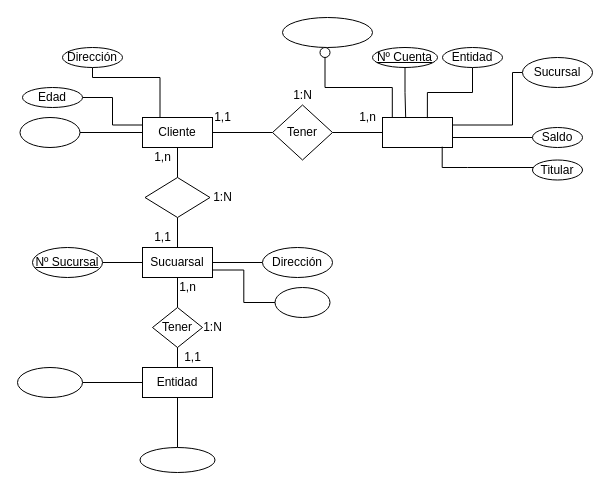
This 610x490 diagram has some shape labels left out. Here are the shapes that lost their labels. From the top down, the box of each, then its label:
(282, 16, 372, 48): Tipo Cuenta
(19, 116, 80, 148): NIF
(382, 116, 452, 148): Cuenta
(144, 176, 210, 218): Es Cliente
(274, 286, 330, 318): Director
(16, 366, 82, 398): Nombre
(139, 446, 215, 472): Sede Social
